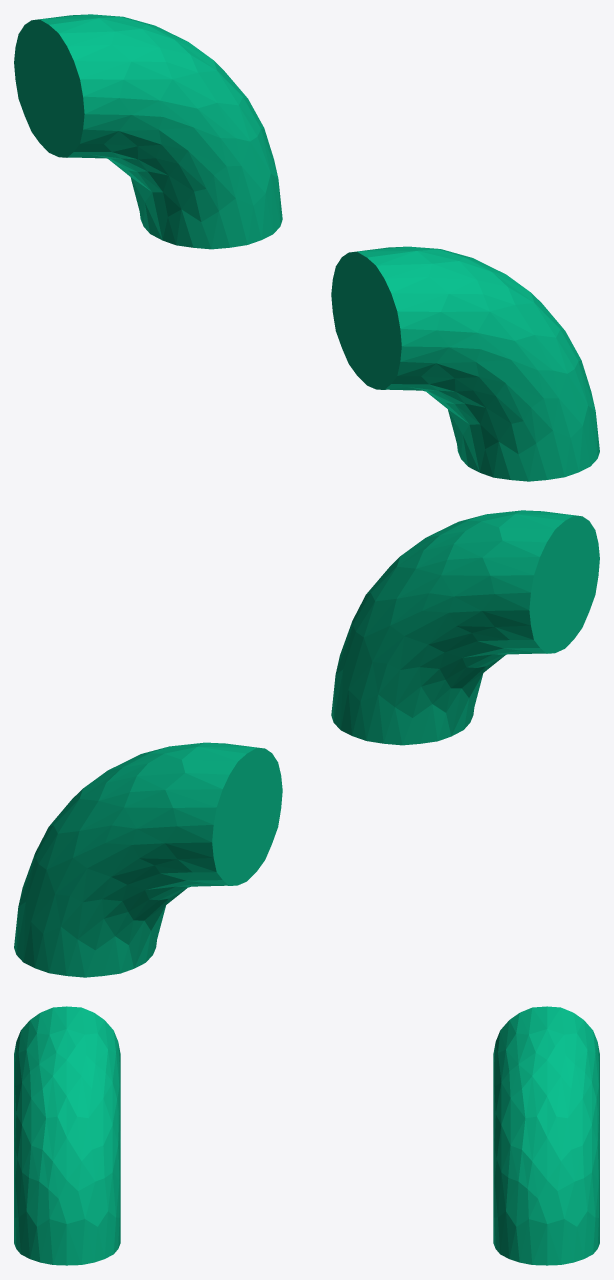
3 views of the same model, one above another, from view 1: azimuth 30°, elevation 25°; view 2: azimuth 150°, elevation 25°; view 3: azimuth 270°, elevation 25° (orthographic). The views are drawn at different scales.
Size of the model in its own units: 0.209 by 0.209 by 0.6282.
